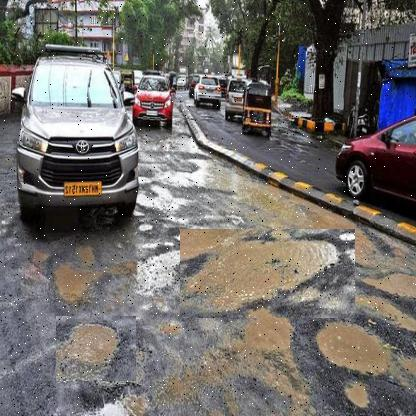pothole_water: (178, 230, 354, 320), (298, 301, 404, 382), (55, 316, 136, 382)
